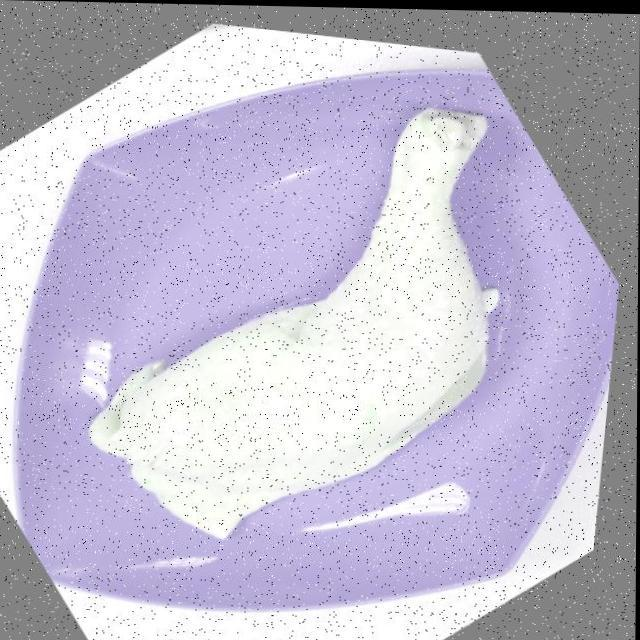quater: (120, 103, 495, 530)
